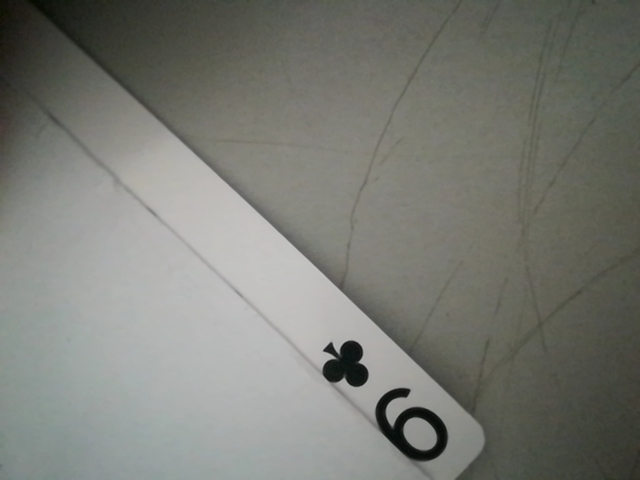mh 9: (304, 331, 472, 474)
